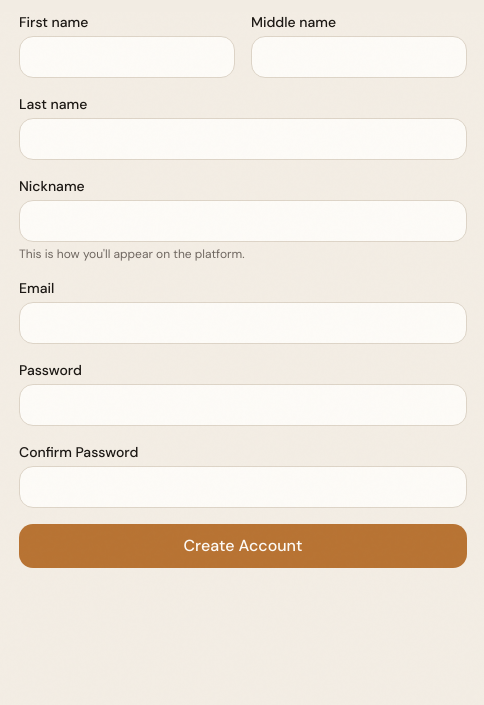
Test: RegisterForm › shows validation errors for invalid input
Click the button "Create Account". click: (243, 546)
box: [19,524,467,568]
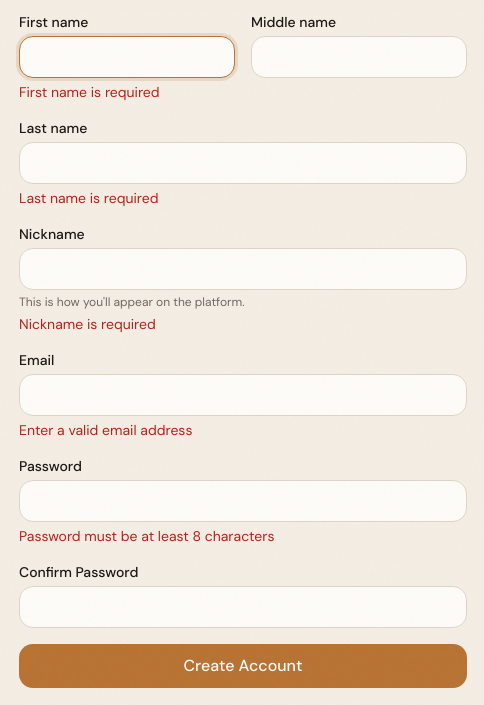
Check: the text "First name is required" is shown, box [19,83,160,101]
Check: the text "Last name is required" is shown, box [19,189,158,207]
Check: the text "Nickname is required" is shown, box [19,315,156,333]
